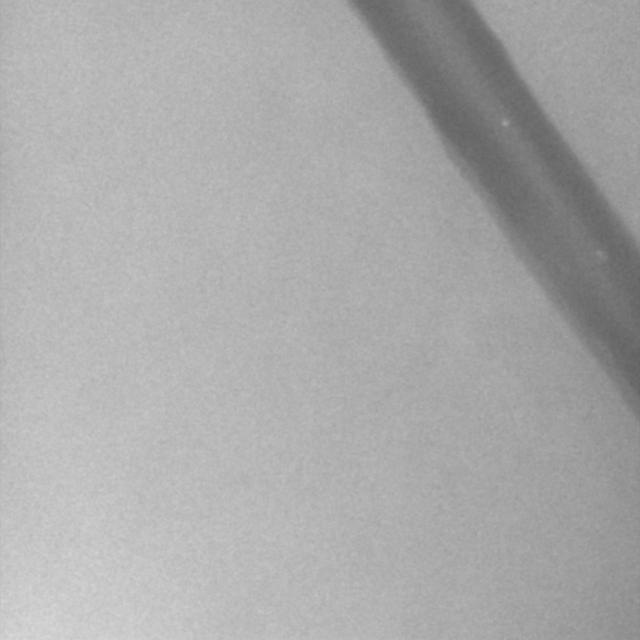air hole: (500, 118, 510, 129)
